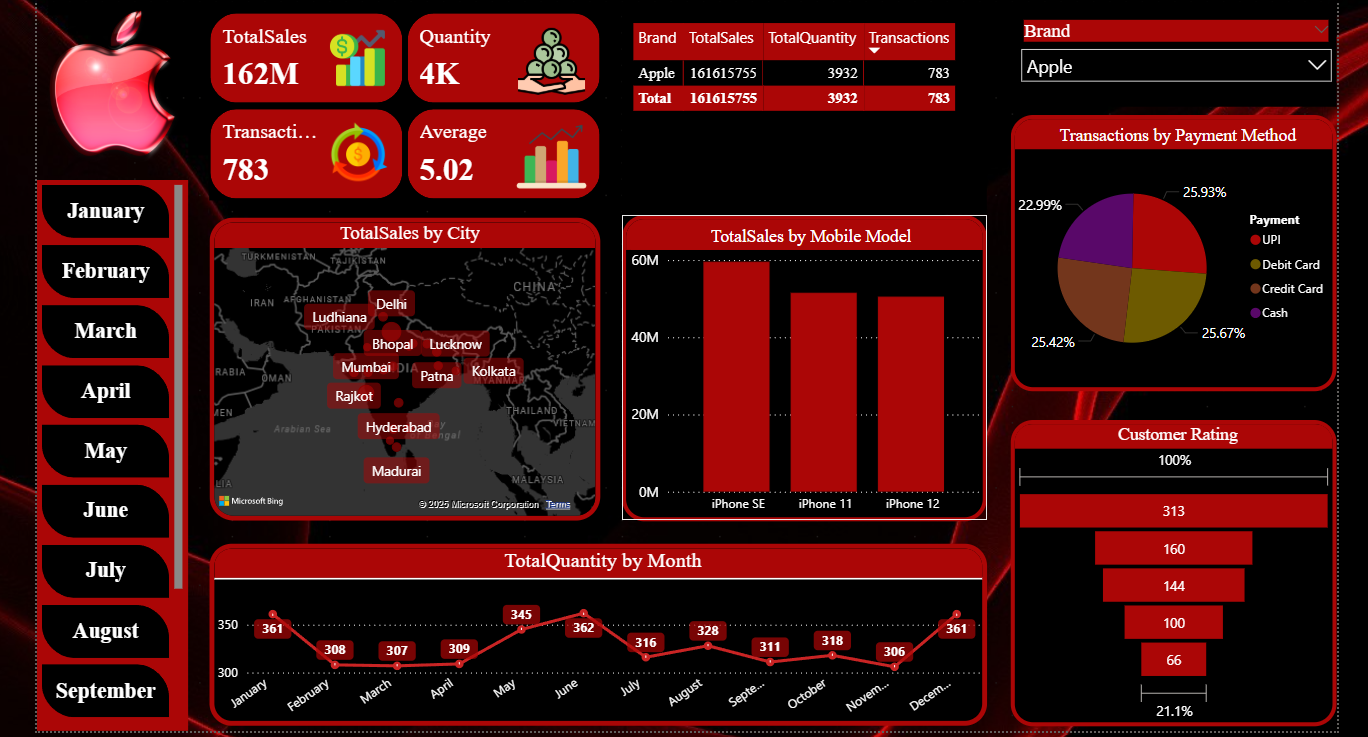

The dashboard page shown, as its layout file describes it:
{"tool":"powerbi","page":{"name":"Page 1","canvas":[1280,720],"ordinal":0},"visuals":[{"type":"image","box":[0,0,148.9,164.9],"z":0},{"type":"advancedSlicerVisual","fields":{"Values":["Sales_Data.Date.Variation.Date Hierarchy.Month"]},"box":[0,177.2,148.9,542.8],"z":1000},{"type":"cardVisual","fields":{"Data":["Sales_Data.TotalSales","Sales_Data.TotalQuantity","Sales_Data.Transactions","Sales_Data.Average"]},"box":[170,12.2,385.6,184.4],"z":2000},{"type":"map","fields":{"Category":["Sales_Data.City"],"Size":["Sales_Data.TotalSales"]},"box":[170.4,213.6,385.2,298.8],"z":3000},{"type":"lineChart","fields":{"Y":["Sales_Data.TotalQuantity"],"Category":["Sales_Data.Date.Variation.Date Hierarchy.Month"]},"box":[170.4,535.8,765.4,179],"z":4000},{"type":"clusteredColumnChart","fields":{"Y":["Sales_Data.TotalSales"],"Category":["Sales_Data.Mobile Model"]},"box":[576.5,211.1,359.3,301.2],"z":5000},{"type":"pieChart","fields":{"Category":["Sales_Data.Payment Method"],"Y":["Sales_Data.Transactions"]},"box":[959.3,113.6,321,271.6],"z":6000},{"type":"funnel","title":"Customer Rating","fields":{"Category":["Sales_Data.Customer Ratings"],"Y":["CountNonNull(Sales_Data.Customer Ratings)"]},"box":[959.3,413.6,321,301.2],"z":7000},{"type":"tableEx","title":"Customer Rating","fields":{"Values":["Sales_Data.Brand","Sales_Data.TotalSales","Sales_Data.TotalQuantity","Sales_Data.Transactions"]},"box":[576.5,12.3,359.3,198.8],"z":8000},{"type":"slicer","fields":{"Values":["Sales_Data.Brand"]},"box":[959.3,12.3,321,92.6],"z":9000}]}

Visuals, with their boxes in screenshot pixels (x1, y1, x2, y2):
image: (36,0,186,167)
advancedSlicerVisual - Sales_Data.Date.Variation.Date Hierarchy.Month: (36,179,186,727)
cardVisual - Sales_Data.TotalSales x Sales_Data.TotalQuantity: (207,12,597,199)
map - Sales_Data.City x Sales_Data.TotalSales: (208,216,597,518)
lineChart - Sales_Data.TotalQuantity x Sales_Data.Date.Variation.Date Hierarchy.Month: (208,541,981,722)
clusteredColumnChart - Sales_Data.TotalSales x Sales_Data.Mobile Model: (618,213,981,517)
pieChart - Sales_Data.Payment Method x Sales_Data.Transactions: (1005,115,1329,389)
"Customer Rating" funnel: (1005,418,1329,722)
"Customer Rating" tableEx: (618,12,981,213)
slicer - Sales_Data.Brand: (1005,12,1329,106)
